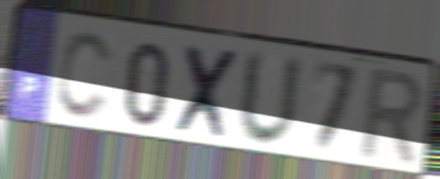0: (122, 40, 174, 130)
7: (311, 57, 359, 157)
C: (53, 29, 116, 124)
R: (355, 65, 427, 171)
U: (235, 45, 306, 152)
X: (172, 41, 245, 145)
